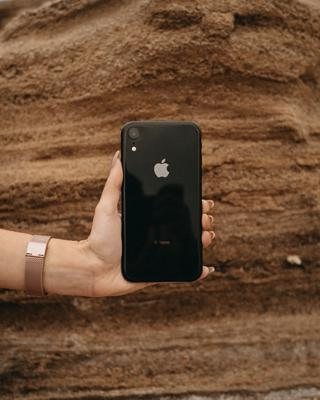cell-phone: (115, 118, 207, 288)
